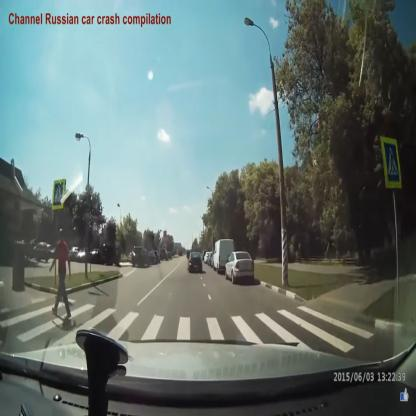crosswalk: (3, 303, 372, 347)
